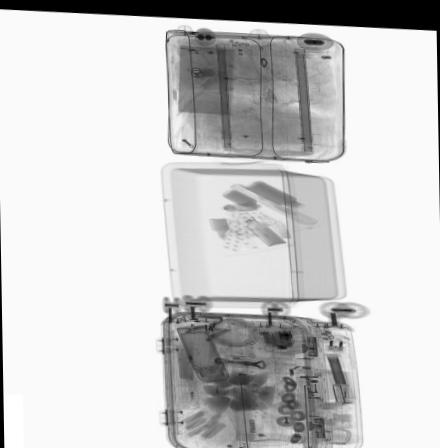Knife: (204, 326, 233, 337)
